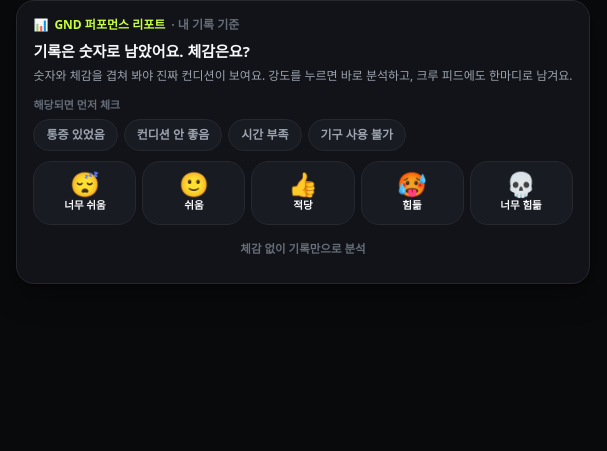
Scenario: CoachCard › 한마디 줄은 강도를 고른 뒤에만 보인다
This screenshot has width=607, height=451.
Expected: the text "한마디줄" is not shown
Click the text "적당": point(303, 206) [293, 198, 313, 214]
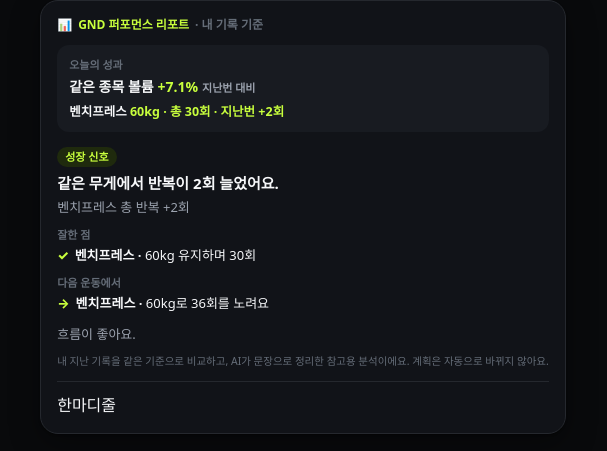
Expected: the text "같은 무게에서 반복이 2회 늘었어요." is shown, [57, 173, 279, 193]
Expected: the text "한마디줄" is shown, [57, 394, 116, 416]
